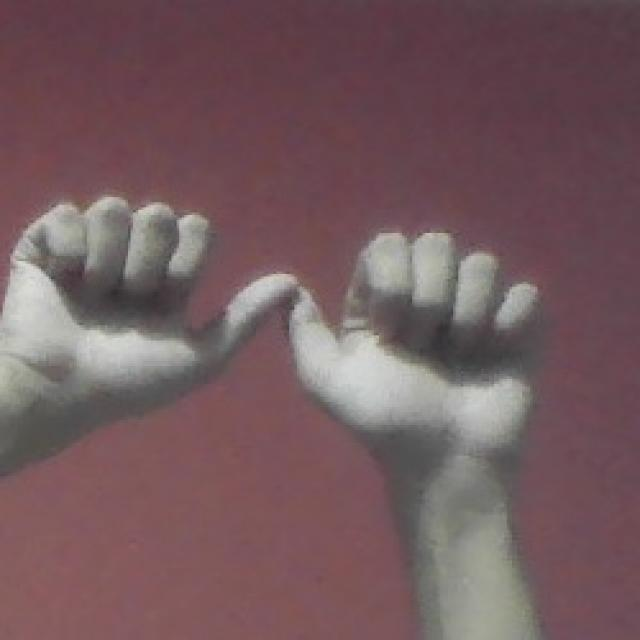Alphabet-A: (11, 185, 546, 477)
